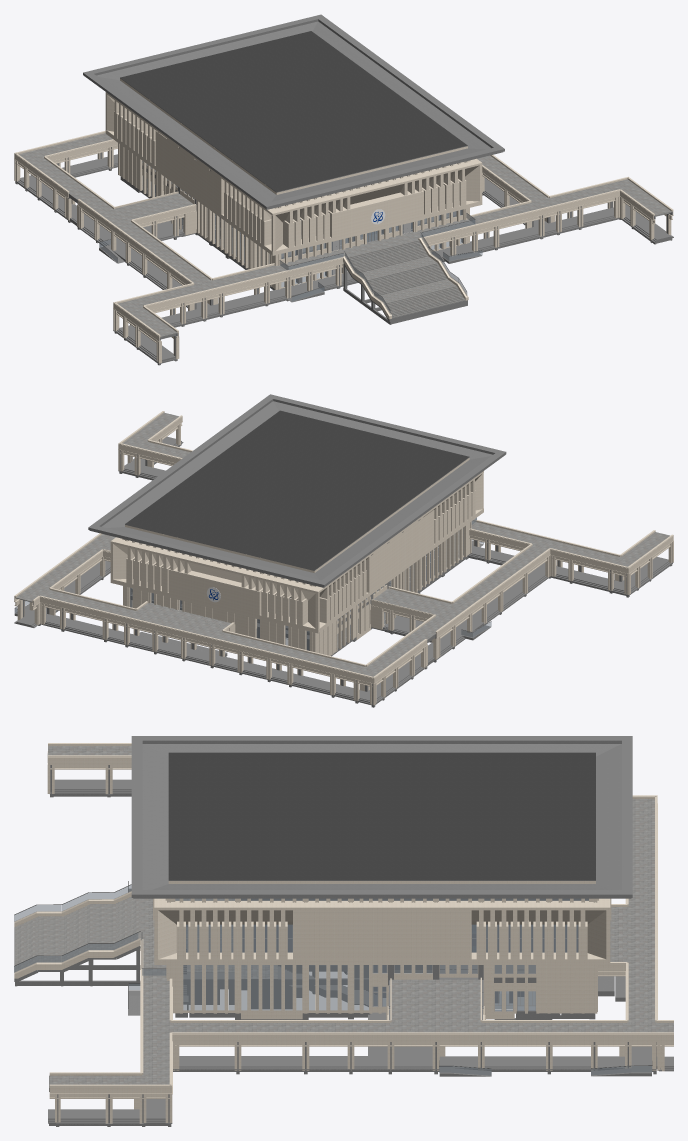
Rendered from dlt.gltf.
3 views of the same model, one above another, from view 1: azimuth 30°, elevation 25°; view 2: azimuth 150°, elevation 25°; view 3: azimuth 270°, elevation 25° (orthographic). The views are drawn at different scales.
Visible parts, largest first — view 1: dalitang1c01, dalitangdc01; view 2: dalitang1c01, dalitangdc01; view 3: dalitang1c01, dalitangdc01.
Boxes of the visible parts, bbox=[...] form: dalitang1c01: bbox=[14, 78, 673, 365]; dalitangdc01: bbox=[83, 14, 504, 209]; dalitang1c01: bbox=[14, 411, 673, 707]; dalitangdc01: bbox=[88, 394, 506, 587]; dalitang1c01: bbox=[14, 743, 673, 1126]; dalitangdc01: bbox=[131, 736, 632, 898].
Bounding box in the file's own units: 108 × 21.38 × 87.58.
Materials: 10 (5 with a texture image).
